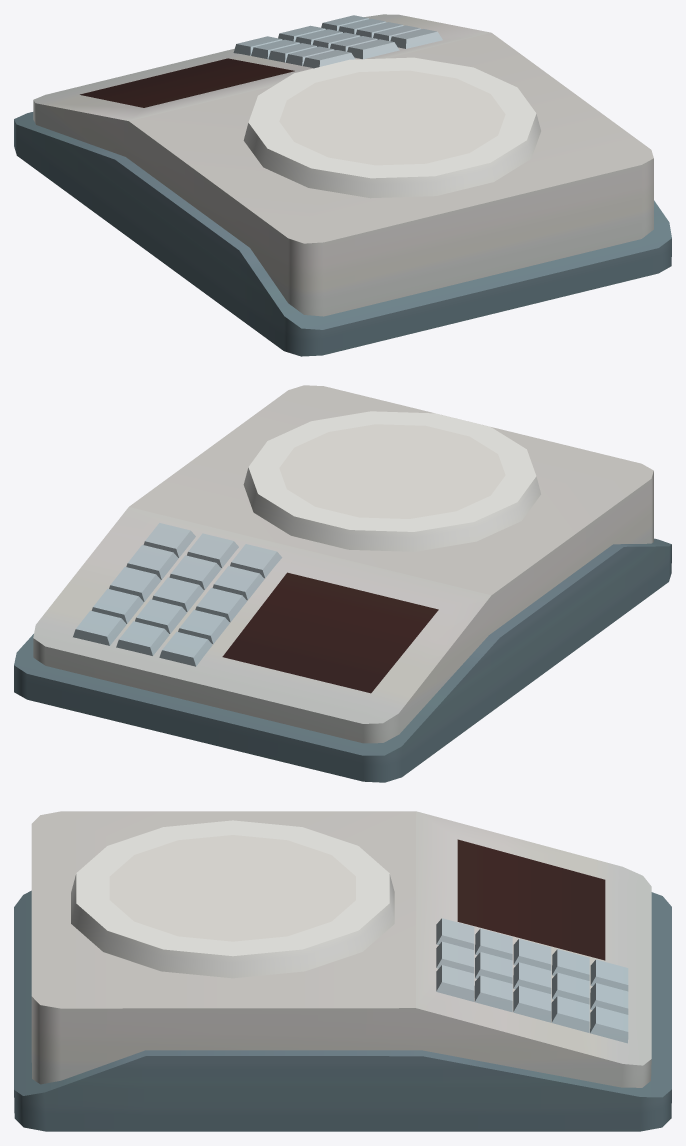
File: SM_Scales.fbx
3 renders of one model, top to bottom at view 1: azimuth 30°, elevation 25°; view 2: azimuth 150°, elevation 25°; view 3: azimuth 270°, elevation 25°, orthographic. The views are drawn at different scales.
Parts seen in each view (by area): view 1: Color, Metal; view 2: Color, Metal; view 3: Color, Metal.
Boxes of the visible parts, box(x1,y1,x2,y2) form: Color: box(14, 14, 671, 356); Metal: box(243, 57, 540, 198); Color: box(14, 385, 671, 782); Metal: box(243, 411, 540, 551); Color: box(14, 811, 671, 1131); Metal: box(71, 820, 394, 978).
Bounding box in the file's own units: 0.3965 × 0.1229 × 0.5273.
Materials: 2 (2 with a texture image).
